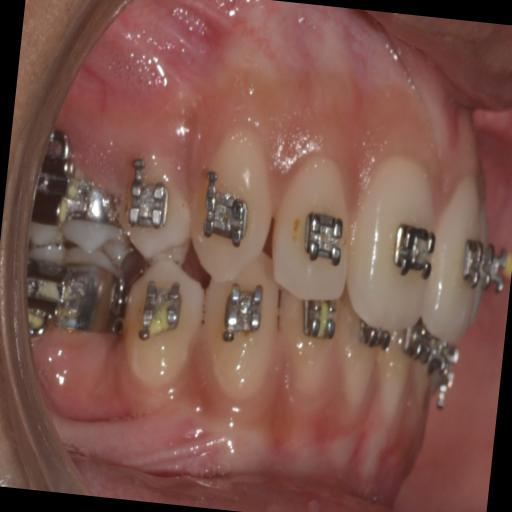correct_brace: (114, 262, 206, 386), (114, 151, 196, 261), (198, 167, 253, 258), (386, 208, 438, 292), (298, 203, 348, 278), (136, 276, 184, 346)
incorrect_brace: (268, 153, 358, 300), (123, 168, 171, 244)
